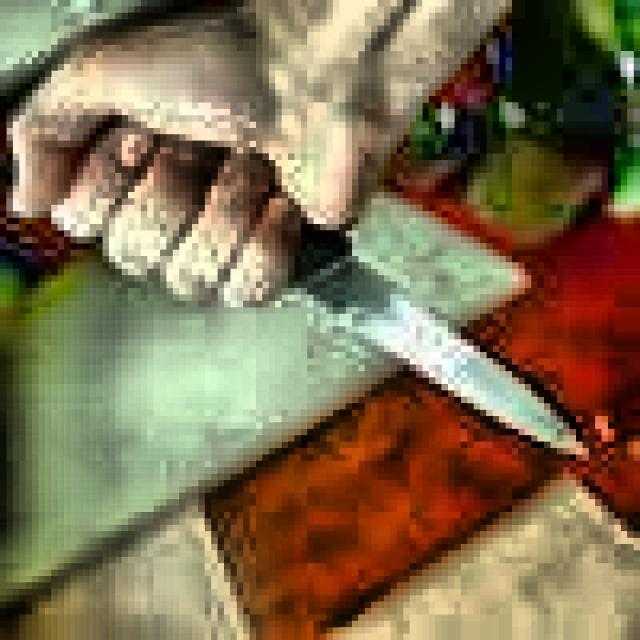knife: (294, 229, 592, 461)
